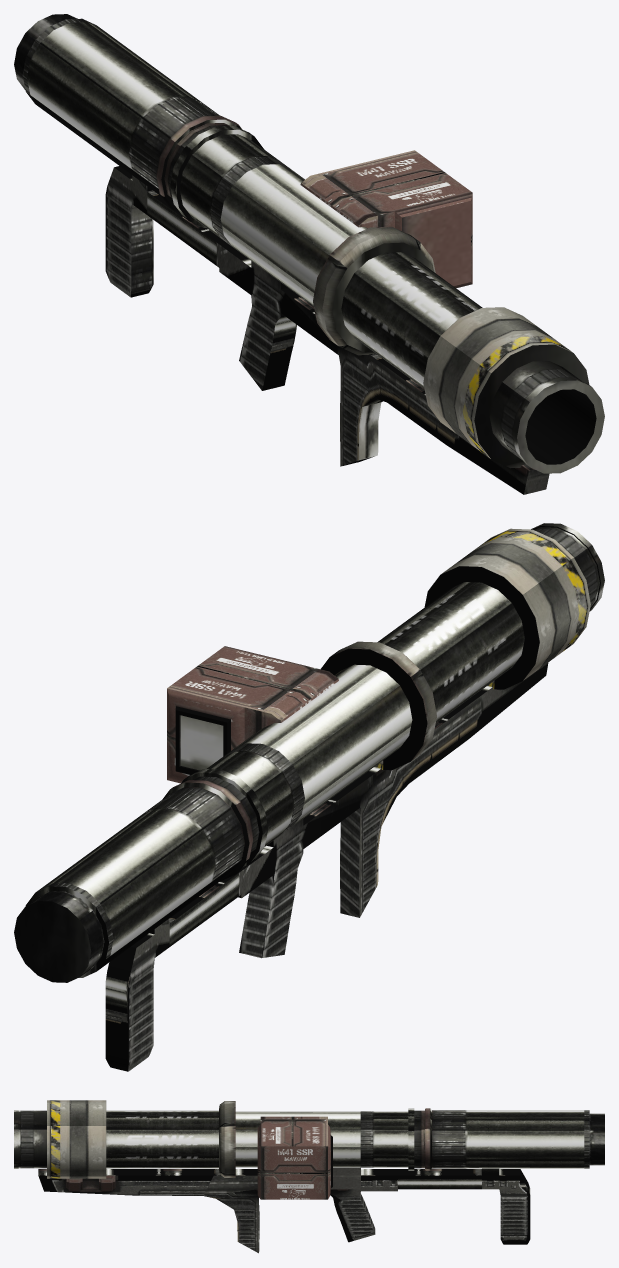
File: Rocket L01.fbx
The picture shows the model from 3 angles, top to bottom: view 1: azimuth 30°, elevation 25°; view 2: azimuth 150°, elevation 25°; view 3: azimuth 270°, elevation 25°; orthographic projection. The views are drawn at different scales.
Parts seen in each view (by area): view 1: roker L; view 2: roker L; view 3: roker L.
Part boxes in pixels (<box>): roker L: <box>14,14,604,494</box>; roker L: <box>14,523,604,1071</box>; roker L: <box>14,1100,604,1253</box>.
Size of the model in its own units: 81.91 by 108 by 396.
Materials: 2 (2 with a texture image).
